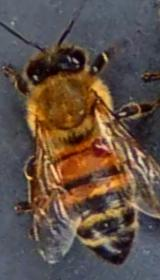varroa_mite: (86, 125, 118, 162)
